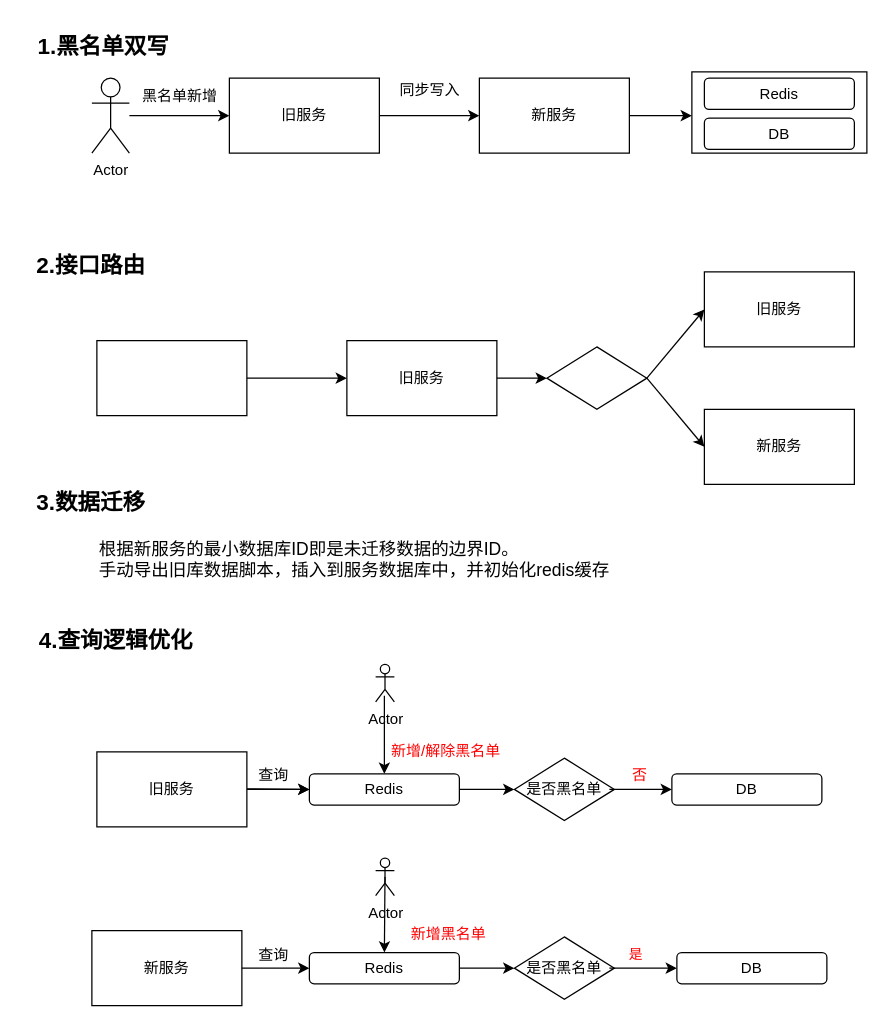
Image size: 889x1028. Some labels were removed from this diagram. The box of each missing label's shape, as (x1, y1, x2, y2) in pixels:
外部服务: (96, 339, 247, 416)
路由 是否开启: (546, 346, 647, 409)
